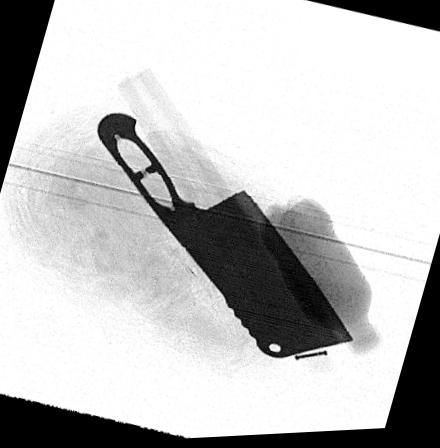Knife: (96, 113, 354, 362)
